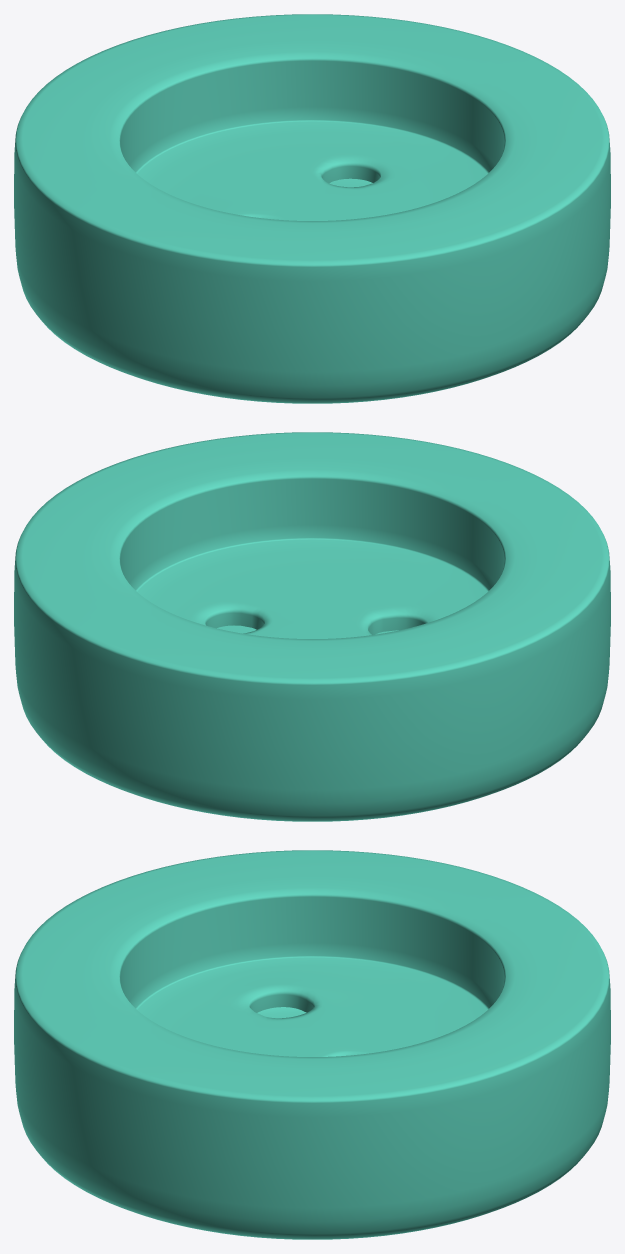
The model's file is niukou.fbx.
The picture shows the model from 3 angles, top to bottom: view 1: azimuth 30°, elevation 25°; view 2: azimuth 150°, elevation 25°; view 3: azimuth 270°, elevation 25°; orthographic projection.
Visible parts, largest first — view 1: pCylinder6; view 2: pCylinder6; view 3: pCylinder6.
Part boxes in pixels (left/top/right/bottom): pCylinder6: left=14, top=14, right=610, bottom=403; pCylinder6: left=14, top=432, right=610, bottom=821; pCylinder6: left=14, top=850, right=610, bottom=1239.
Bounding box in the file's own units: 2 × 0.5741 × 2.
